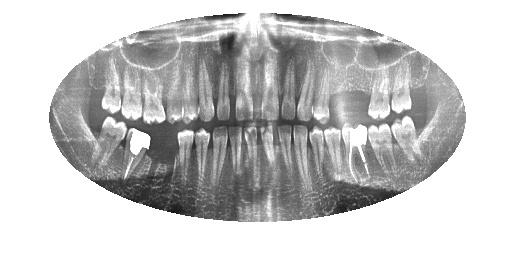13healthy: (163, 66, 183, 125)
i10healthy: (226, 122, 243, 184)
i11healthy: (208, 121, 230, 192)
i12healthy: (192, 122, 214, 197)
i13healthy: (174, 126, 195, 190)
i14loss: (143, 125, 177, 191)
i15healthy: (116, 126, 152, 192)
i16healthy: (90, 113, 130, 175)
i1healthy: (388, 112, 426, 166)
i2healthy: (364, 117, 400, 178)
i3healthy: (338, 115, 373, 189)
i4healthy: (321, 120, 346, 186)
i5healthy: (304, 122, 328, 194)
i6healthy: (290, 122, 312, 194)
i7healthy: (275, 118, 295, 190)
i8decay: (258, 120, 276, 189)
i9decay: (241, 119, 262, 192)
u10healthy: (214, 56, 234, 123)
u11healthy: (194, 57, 216, 125)
u12healthy: (178, 61, 203, 124)
u14healthy: (139, 57, 169, 129)
u15healthy: (122, 64, 145, 125)
u16healthy: (97, 56, 124, 115)
u1healthy: (388, 61, 415, 115)
u2healthy: (364, 61, 393, 124)
u3loss: (348, 61, 372, 120)
u4loss: (327, 63, 350, 123)
u5healthy: (312, 60, 333, 126)
u6healthy: (295, 55, 314, 124)
u7healthy: (278, 55, 298, 123)
u8healthy: (257, 50, 283, 123)
u9decay: (231, 51, 256, 123)
